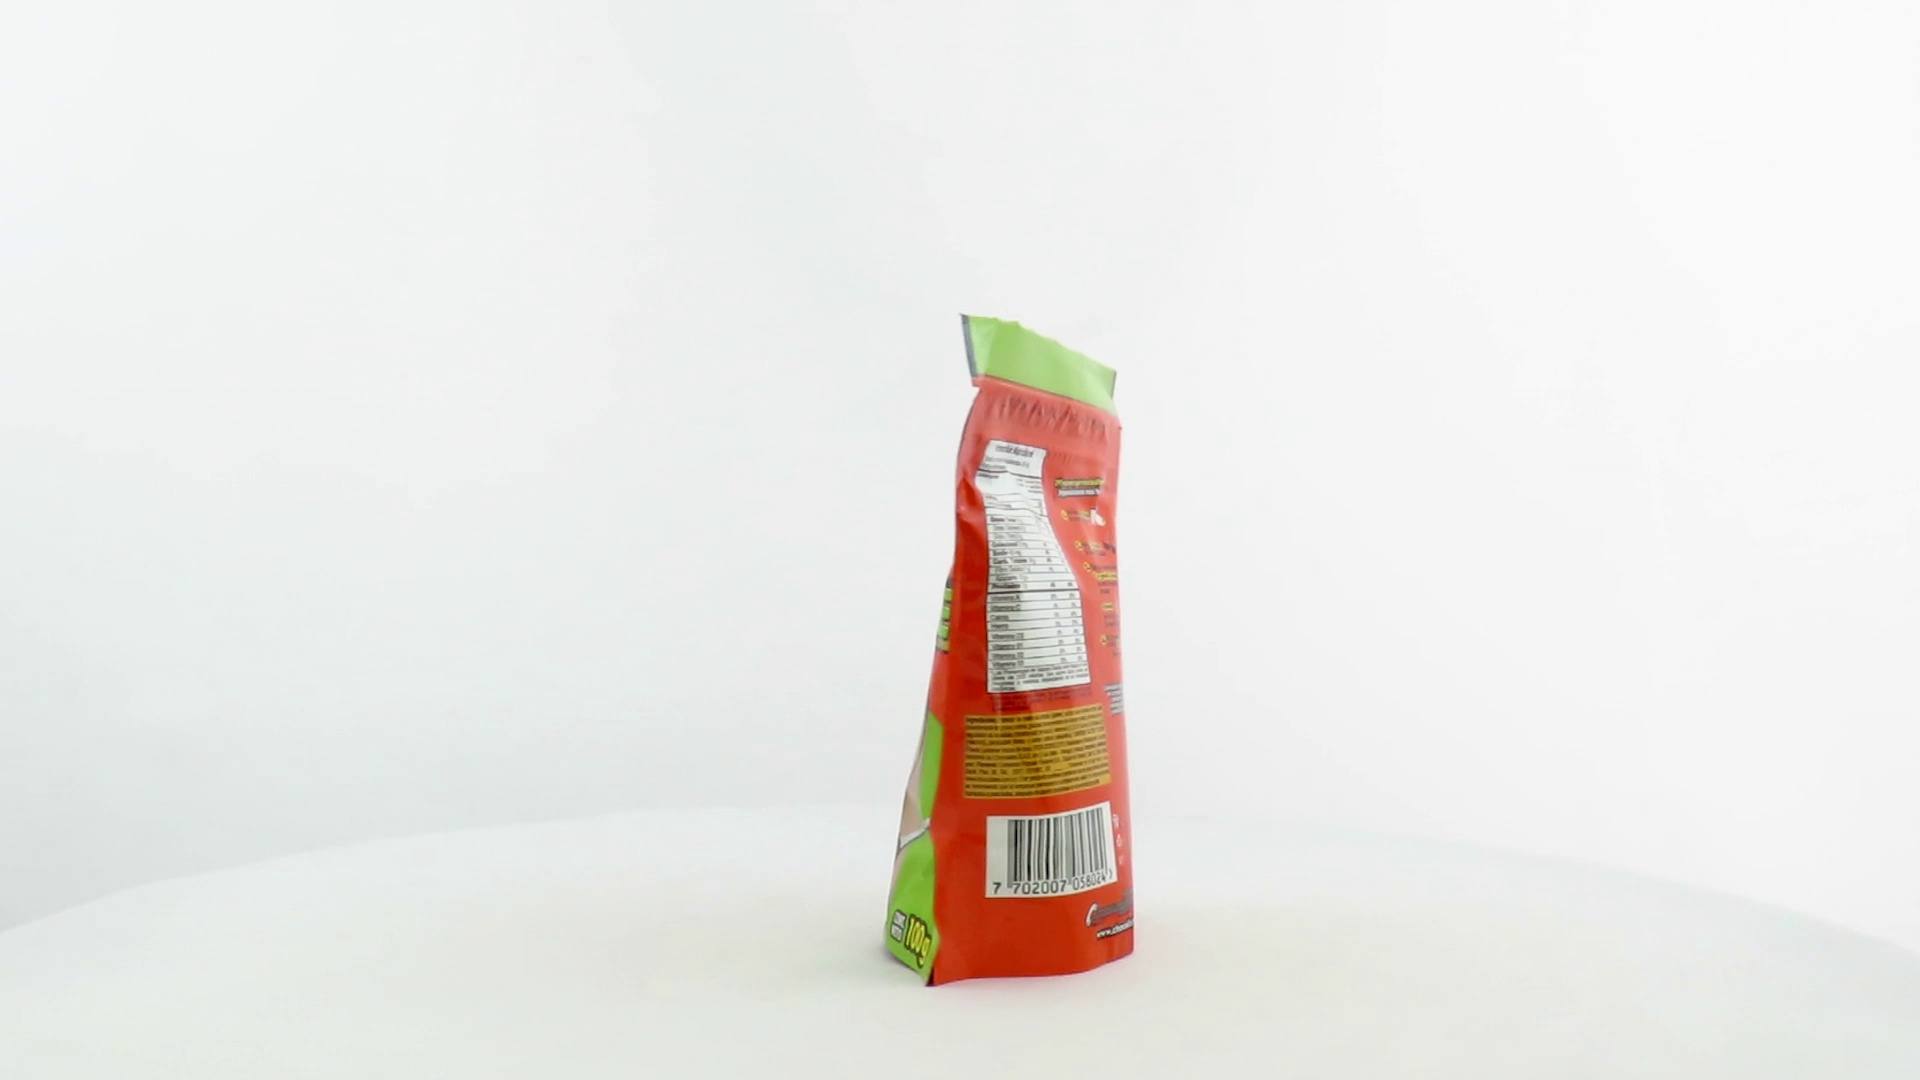COL0170102DYP10000: (874, 309, 1139, 993)
